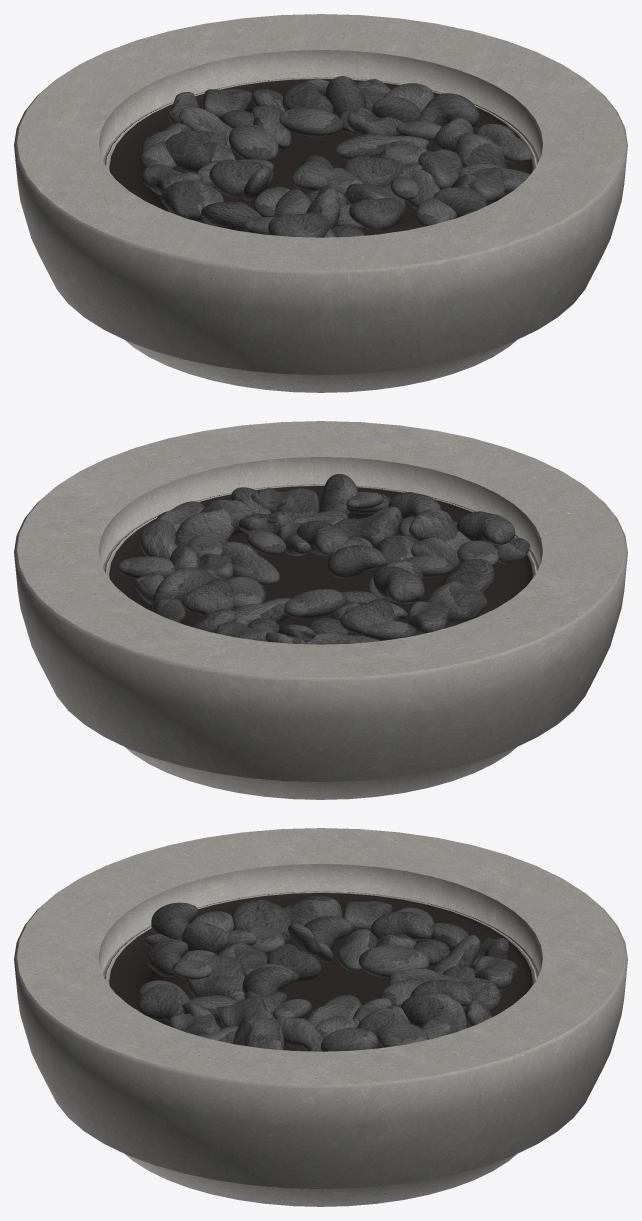
Rendered from Firepit.fbx.
The picture shows the model from 3 angles, top to bottom: view 1: azimuth 30°, elevation 25°; view 2: azimuth 150°, elevation 25°; view 3: azimuth 270°, elevation 25°; orthographic projection.
Parts seen in each view (by area): view 1: Cube.013; view 2: Cube.013; view 3: Cube.013.
Part boxes in pixels (x1,y1,x2,y2): Cube.013: (14,14,627,392); Cube.013: (14,421,627,799); Cube.013: (14,828,627,1206).
Bounding box in the file's own units: 479 × 149 × 479.
Materials: 3 (2 with a texture image).
